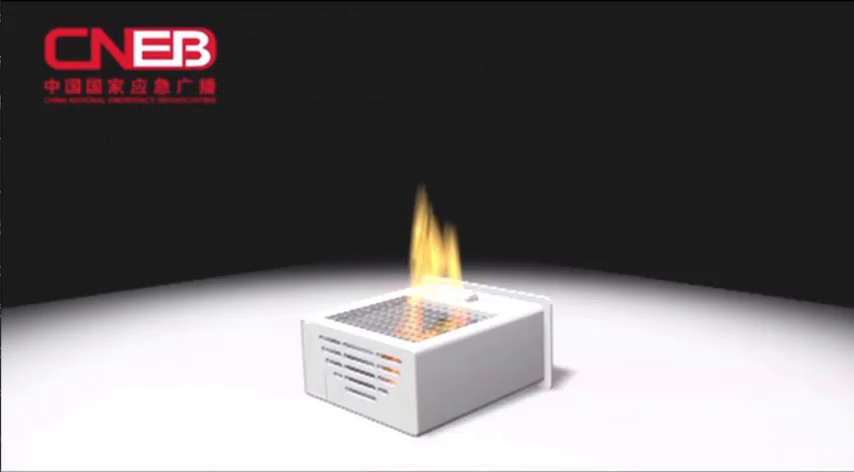fire: (398, 179, 472, 346)
